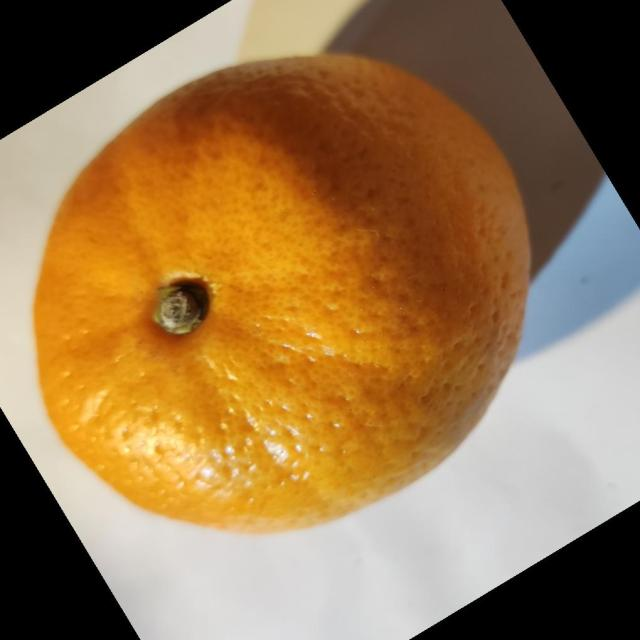fresh orange: (31, 51, 532, 535)
